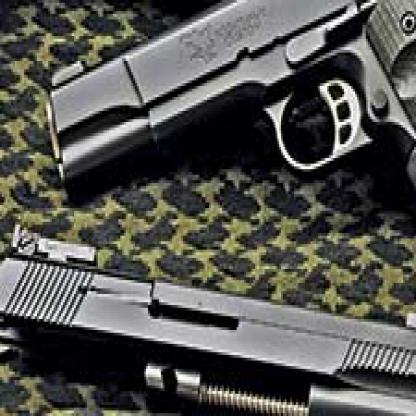gun: (32, 0, 414, 369)
